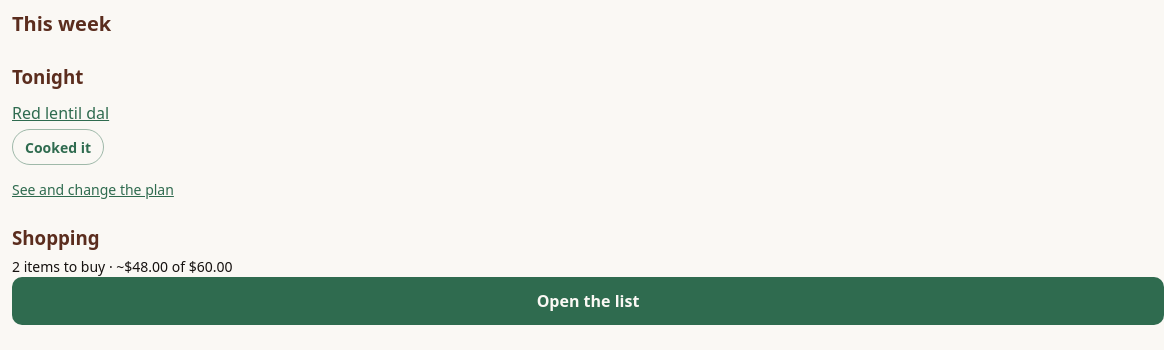
it: Home › marks tonight’s meal cooked, dated today (TYL-68)
Click the button with aria-label "Cooked Red lentil dal": (58,147) [12,129,104,165]
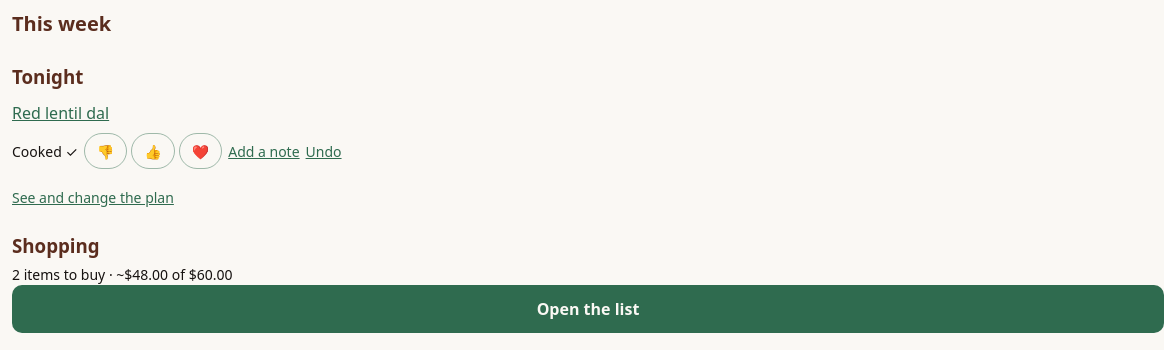
Now the element named "Rate Red lentil dal" is shown, box [84,133,222,169]
